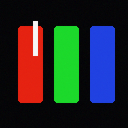4 line_v: (33, 21, 37, 55)
